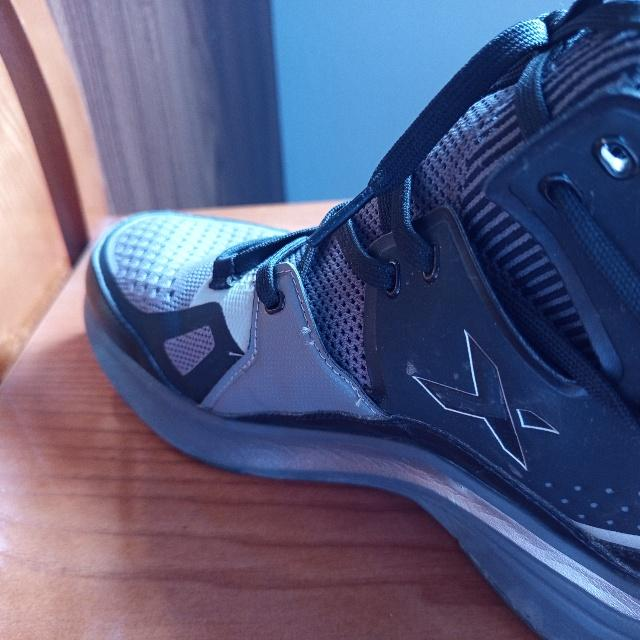broken: (298, 324, 318, 348)
